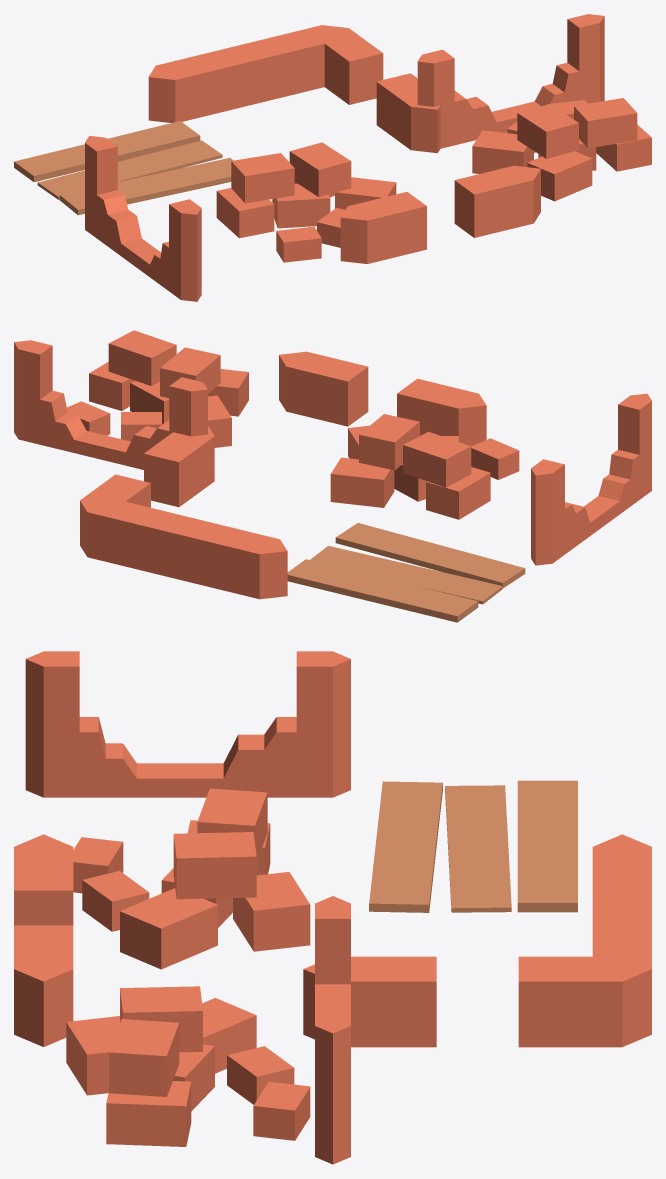
The model's file is Casa 4 Rota.obj.
3 renders of one model, top to bottom at view 1: azimuth 30°, elevation 25°; view 2: azimuth 150°, elevation 25°; view 3: azimuth 270°, elevation 25°, orthographic. The views are drawn at different scales.
Bounding box in the file's own units: 3.12 × 0.5 × 2.21.
